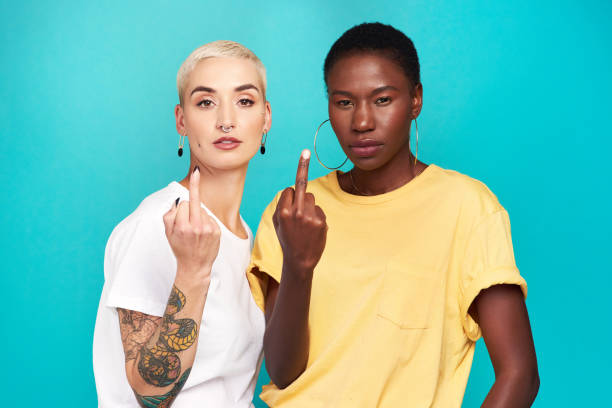insulting_gesture: (267, 150, 337, 268), (161, 164, 228, 279)
